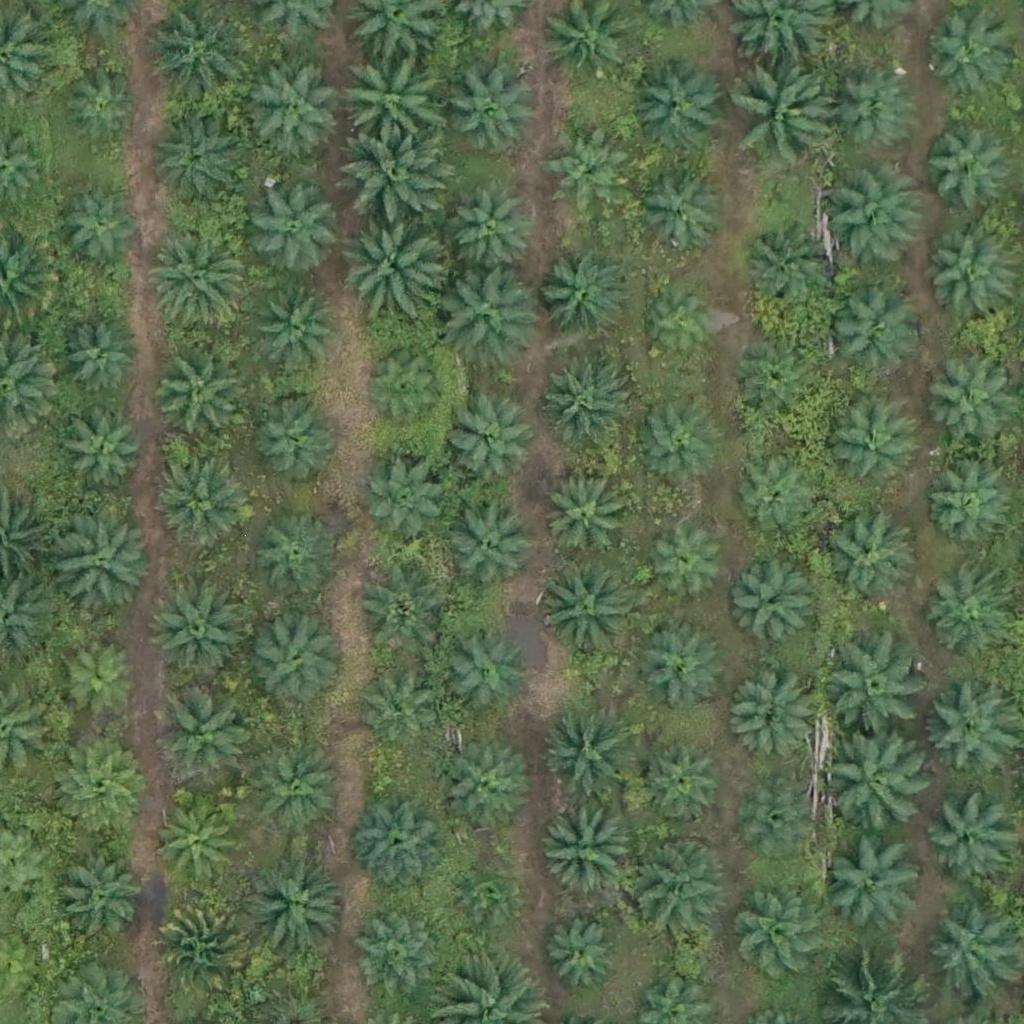Kelapa_Sawit: (818, 729, 931, 843), (830, 834, 930, 935), (624, 834, 724, 935), (351, 794, 451, 895), (243, 851, 343, 952), (53, 732, 153, 833), (56, 508, 156, 609), (152, 680, 252, 781), (148, 6, 248, 107), (149, 223, 249, 324), (155, 454, 255, 555), (240, 57, 340, 158), (245, 603, 345, 704), (243, 736, 343, 837), (341, 57, 441, 158), (339, 210, 439, 311), (442, 266, 542, 367), (537, 562, 637, 663), (540, 702, 640, 803), (735, 68, 835, 169), (742, 216, 842, 317), (815, 512, 915, 613), (830, 637, 930, 738), (920, 349, 1020, 450), (538, 801, 638, 901), (156, 898, 256, 998), (147, 582, 247, 682), (346, 128, 446, 228), (625, 59, 725, 159), (632, 163, 732, 263), (825, 170, 925, 270), (921, 675, 1021, 775), (541, 255, 629, 344), (923, 794, 1011, 882), (924, 910, 1012, 998), (739, 894, 827, 982), (354, 915, 442, 1003), (150, 800, 238, 888), (156, 123, 244, 211), (250, 394, 338, 482), (251, 514, 339, 602), (365, 458, 453, 546), (358, 572, 446, 660), (451, 190, 539, 278), (443, 401, 531, 489), (447, 502, 535, 590), (439, 631, 527, 719), (544, 125, 632, 213), (541, 361, 629, 449), (737, 340, 825, 428), (827, 67, 915, 155), (828, 288, 916, 376), (824, 400, 912, 488), (925, 125, 1013, 213), (925, 232, 1013, 320), (922, 465, 1010, 553), (57, 409, 144, 498), (253, 280, 340, 369), (50, 851, 137, 939), (58, 631, 145, 719), (59, 63, 146, 151), (56, 184, 143, 272), (61, 314, 148, 402), (155, 352, 242, 440), (253, 190, 340, 278), (356, 667, 443, 755), (359, 349, 446, 437), (446, 747, 533, 835), (448, 69, 535, 157), (544, 475, 631, 563), (639, 739, 726, 827), (639, 621, 726, 709), (646, 517, 733, 605), (634, 394, 721, 482), (733, 457, 820, 545), (732, 566, 819, 654), (729, 674, 816, 762), (921, 572, 1008, 660), (918, 14, 1005, 102), (644, 288, 719, 364), (543, 917, 618, 993), (743, 784, 818, 860), (454, 861, 516, 924)
